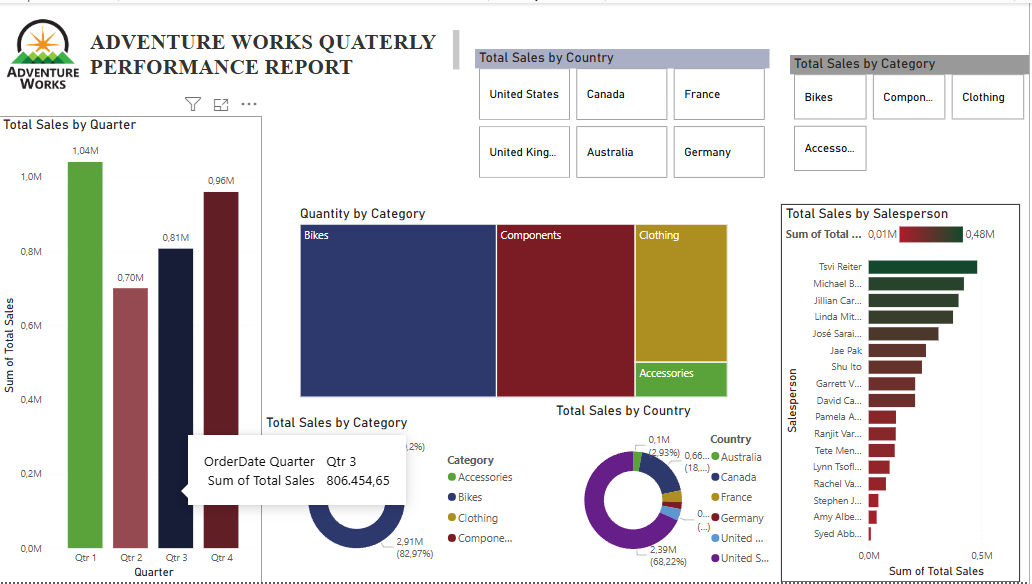

The page's visual inventory and layout, read from the dashboard file:
{"tool":"powerbi","page":{"name":"Sales","canvas":[1280,720],"ordinal":0},"visuals":[{"type":"clusteredColumnChart","title":"Total Sales by Quarter","fields":{"Category":["Sales.OrderDate.Variation.Date Hierarchy.Quarter"],"Y":["Sales.Total Sales"]},"box":[0,140,327.1,580.2],"z":0},{"type":"donutChart","title":"Total Sales by Category","fields":{"Series":["Products.Category"],"Y":["Sales.Total Sales"]},"box":[327.1,511.1,333.4,195],"z":1},{"type":"donutChart","title":"Total Sales by Country","fields":{"Y":["Sales.Total Sales"],"Series":["Region.Country"]},"box":[687.2,495.3,284.6,224.9],"z":2},{"type":"barChart","title":"Total Sales by Salesperson","fields":{"Y":["Sales.Total Sales"],"Category":["Salesperson.Salesperson"]},"box":[971.8,250,297.2,470.2],"z":3},{"type":"treemap","title":"Quantity by Category","fields":{"Details":["Products.Category"],"Values":["Sales.Quantity"]},"box":[369.5,251.6,540.9,243.7],"z":4},{"type":"advancedSlicerVisual","title":"Total Sales by Category","fields":{"Values":["Products.Category"]},"box":[982.8,64.5,297.2,151],"z":6},{"type":"advancedSlicerVisual","title":"Total Sales by Country","fields":{"Values":["Region.Country"]},"box":[591.3,56.6,366.4,166.7],"z":7},{"type":"textbox","box":[108.5,28.3,468.6,72.3],"z":8},{"type":"image","box":[0,0,108.5,127.4],"z":9}]}

Visuals, with their boxes on the page's 1280x720 design canvas (x1, y1, x2, y2). These are canvas units, not pixel positions in the 1032x584 screenshot, which may show the page scaled, cropped or inside an application window:
"Total Sales by Quarter" clusteredColumnChart: bbox(0, 140, 327, 720)
"Total Sales by Category" donutChart: bbox(327, 511, 660, 706)
"Total Sales by Country" donutChart: bbox(687, 495, 972, 720)
"Total Sales by Salesperson" barChart: bbox(972, 250, 1269, 720)
"Quantity by Category" treemap: bbox(370, 252, 910, 495)
"Total Sales by Category" advancedSlicerVisual: bbox(983, 64, 1280, 216)
"Total Sales by Country" advancedSlicerVisual: bbox(591, 57, 958, 223)
textbox: bbox(108, 28, 577, 101)
image: bbox(0, 0, 108, 127)
